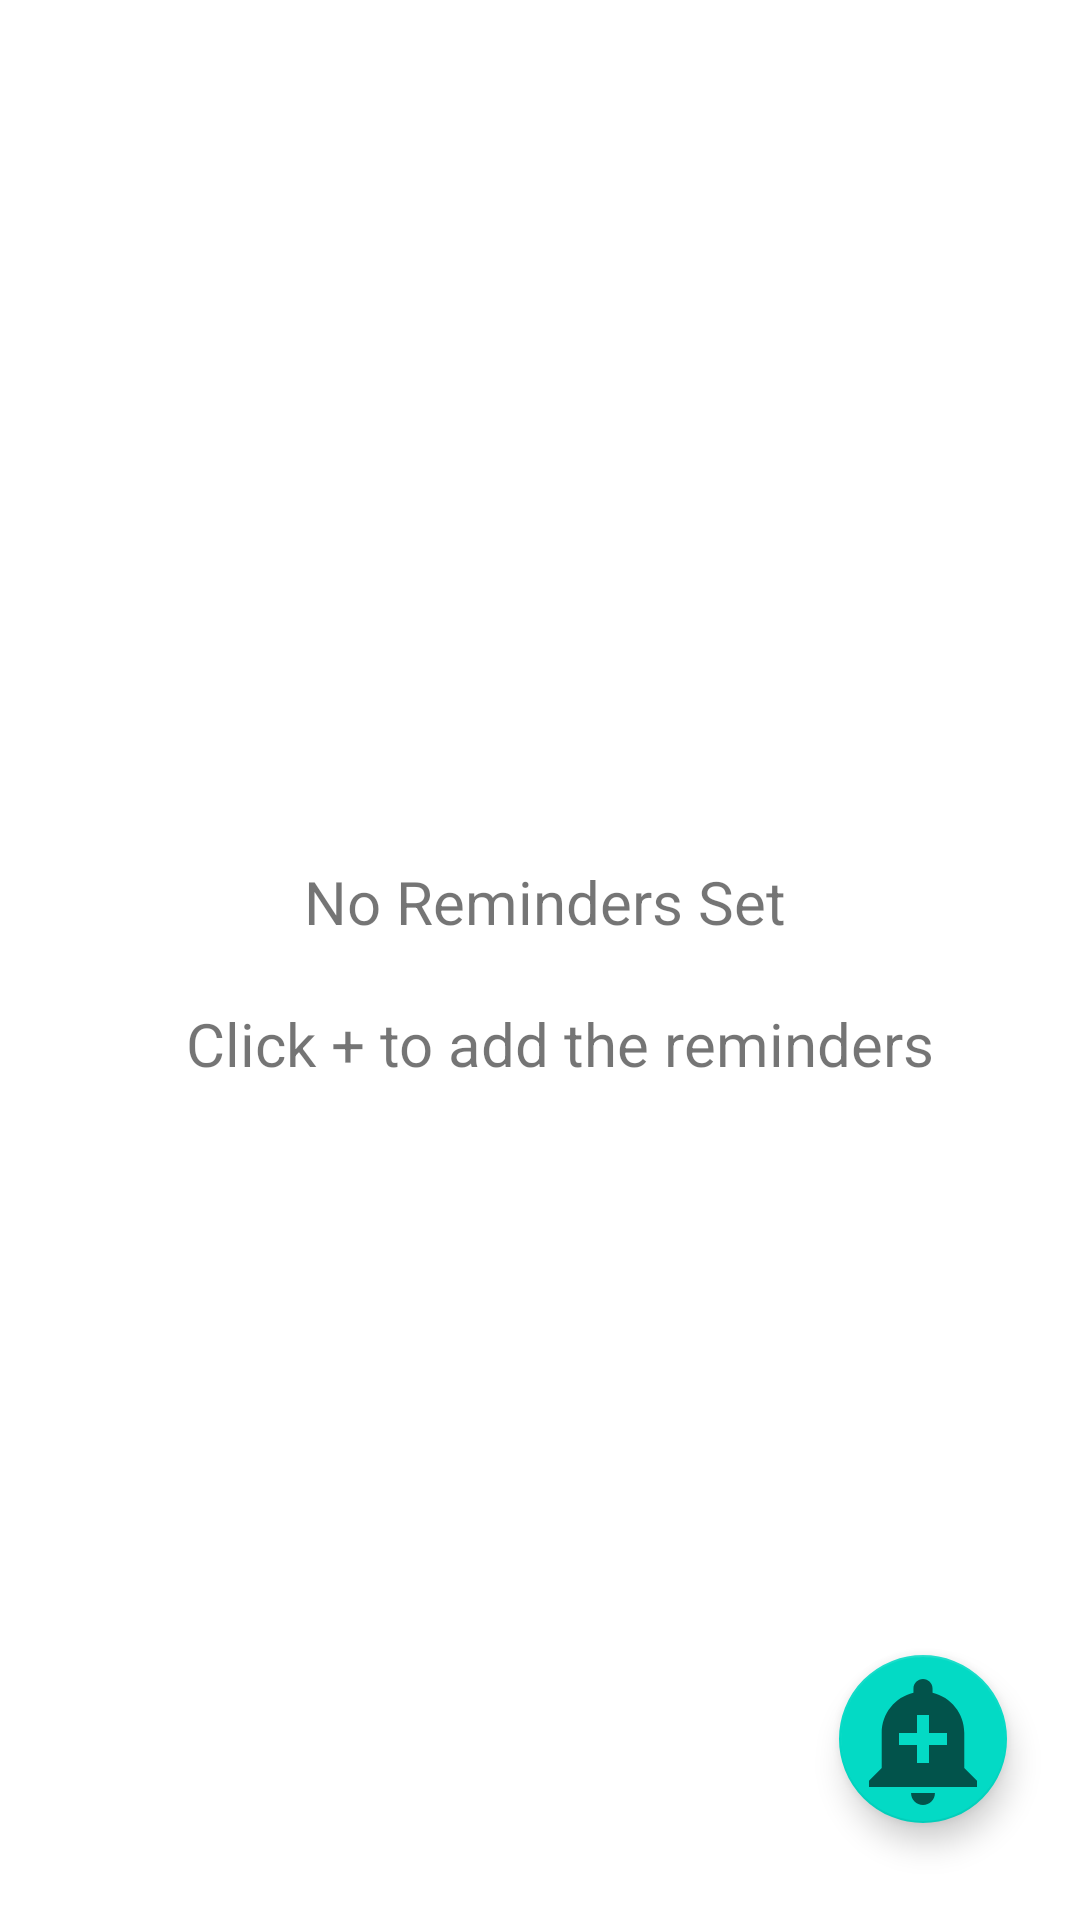

Where icons sit on this 1080×1920 app screen, as (x1, y1, x2, y2):
add alert: (839, 1655, 1007, 1823)
